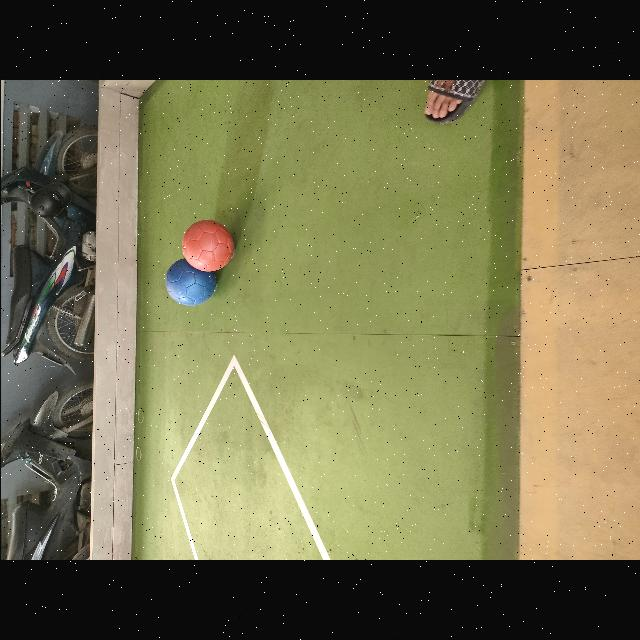B: (164, 259, 216, 305)
R: (180, 220, 233, 272)
